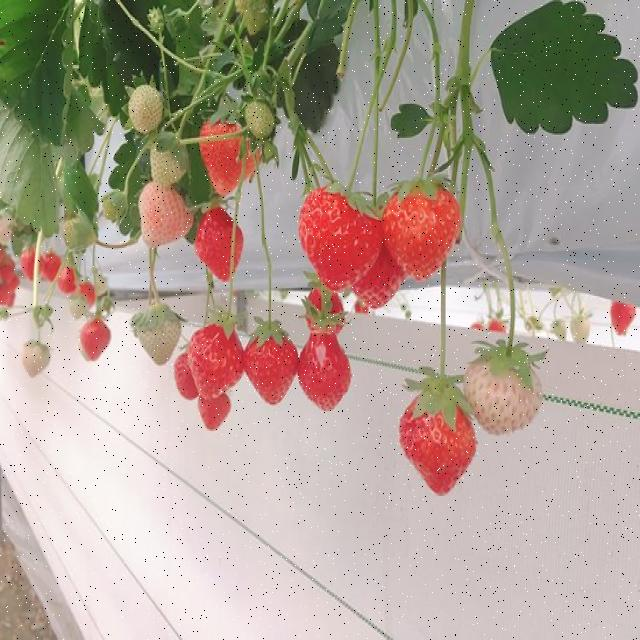Ripe Strawberry: (298, 184, 381, 290), (400, 395, 477, 495), (386, 193, 460, 282), (343, 237, 409, 307), (189, 326, 248, 398), (301, 334, 351, 411), (195, 206, 242, 283), (245, 334, 296, 404), (174, 355, 215, 399), (306, 292, 345, 334), (80, 316, 112, 359), (200, 391, 232, 428), (0, 247, 19, 305), (607, 299, 636, 336), (19, 250, 42, 281), (470, 320, 507, 338), (58, 267, 78, 294), (42, 255, 62, 280), (81, 284, 97, 308)
